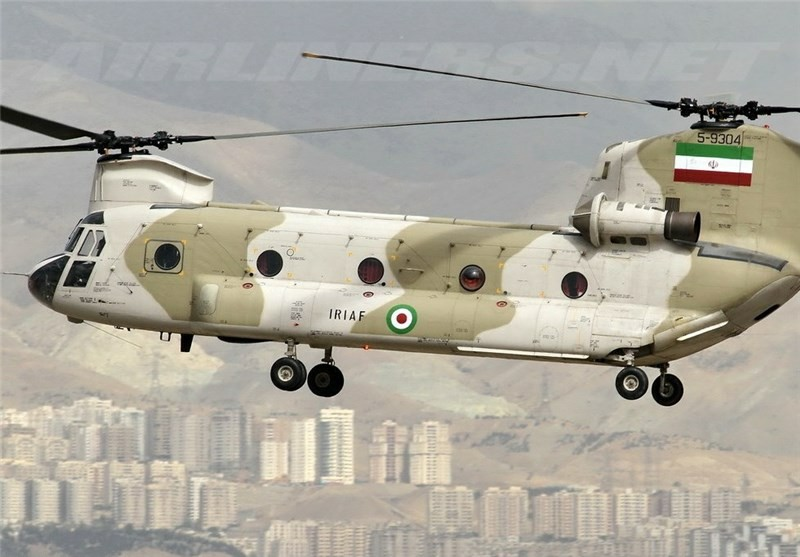chinook: (24, 80, 798, 422)
iran: (675, 140, 761, 191)
